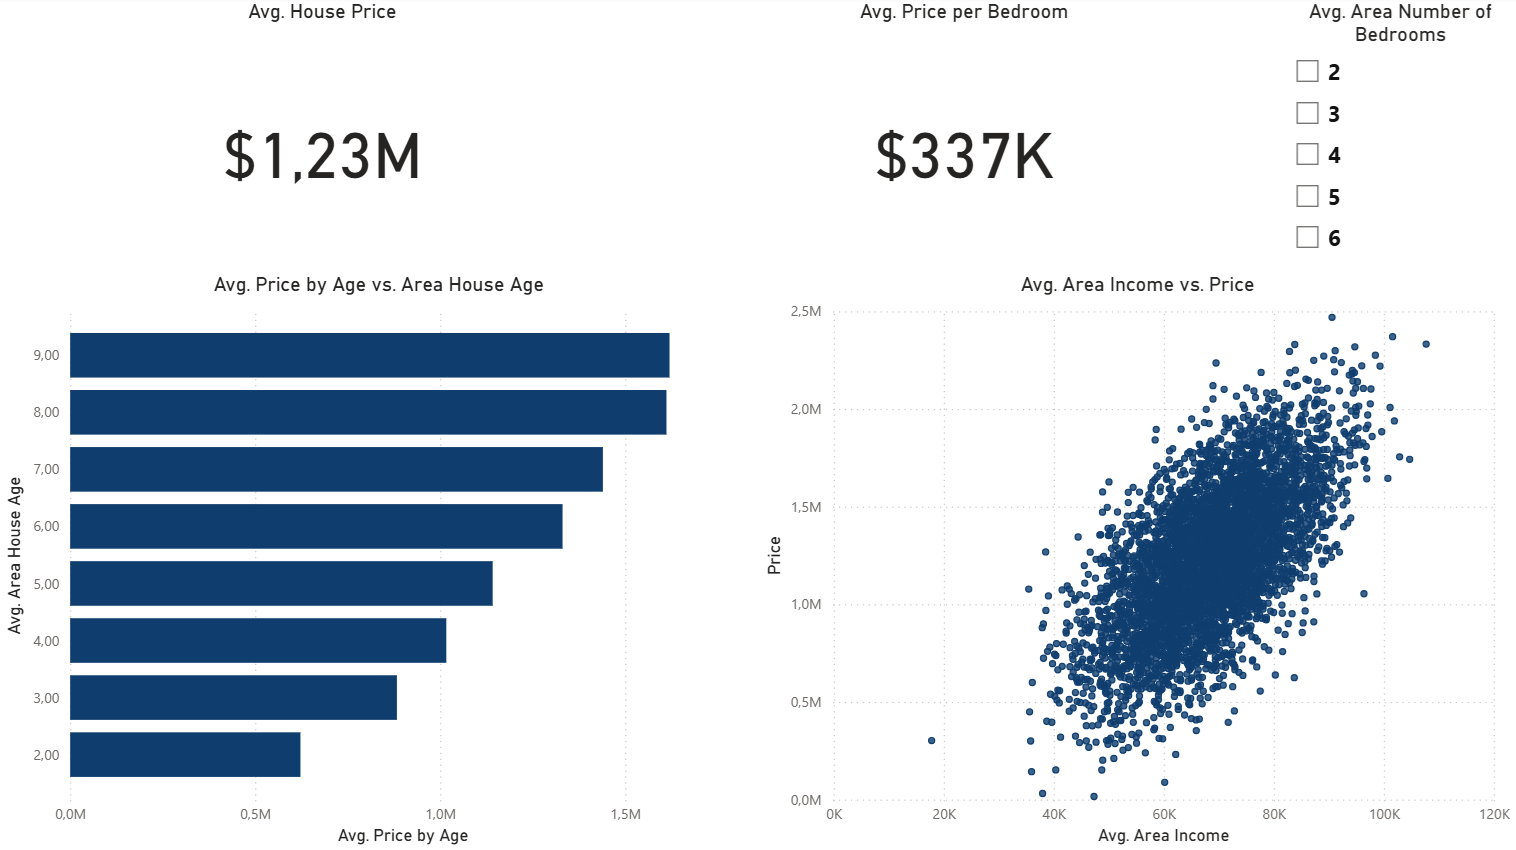

What the dashboard file says about the page in this screenshot:
{"tool":"powerbi","page":{"name":"Page 1","canvas":[1280,720],"ordinal":0},"visuals":[{"type":"card","title":"Avg. House Price ","fields":{"Values":["USA_housing_clean.Avg._Price"]},"box":[0,0,547,231.8],"z":0},{"type":"card","title":"Avg. Price per Bedroom","fields":{"Values":["USA_housing_clean.Avg._Price_per_Bedroom"]},"box":[547,0,534.8,231.8],"z":1000},{"type":"scatterChart","title":"Avg. Area Income vs. Price","fields":{"X":["USA_housing_clean.Avg._Area_Income"],"Y":["USA_housing_clean.Price"]},"box":[641.5,231.4,638.5,488.7],"z":2000},{"type":"clusteredBarChart","title":"Avg. Price by Age vs. Area House Age","fields":{"Y":["Avg(USA_housing_clean.Price)"],"Category":["USA_housing_clean.Avg._Area_House_Age (bins)"]},"box":[1,231.4,640.5,488.7],"z":3000},{"type":"slicer","title":"Avg. Area Number of Bedrooms","fields":{"Values":["USA_housing_clean.Avg._Area_Number_of_Bedrooms (bins)"]},"box":[1081.7,0,201.3,231.8],"z":4000}]}

Visuals, with their boxes in screenshot pixels (x1, y1, x2, y2), scaled from the page's 1280x720 canvas onto the 1516x850 screenshot:
"Avg. House Price " card: [0,0,648,274]
"Avg. Price per Bedroom" card: [648,0,1281,274]
"Avg. Area Income vs. Price" scatterChart: [760,273,1515,849]
"Avg. Price by Age vs. Area House Age" clusteredBarChart: [1,273,760,849]
"Avg. Area Number of Bedrooms" slicer: [1281,0,1515,274]
